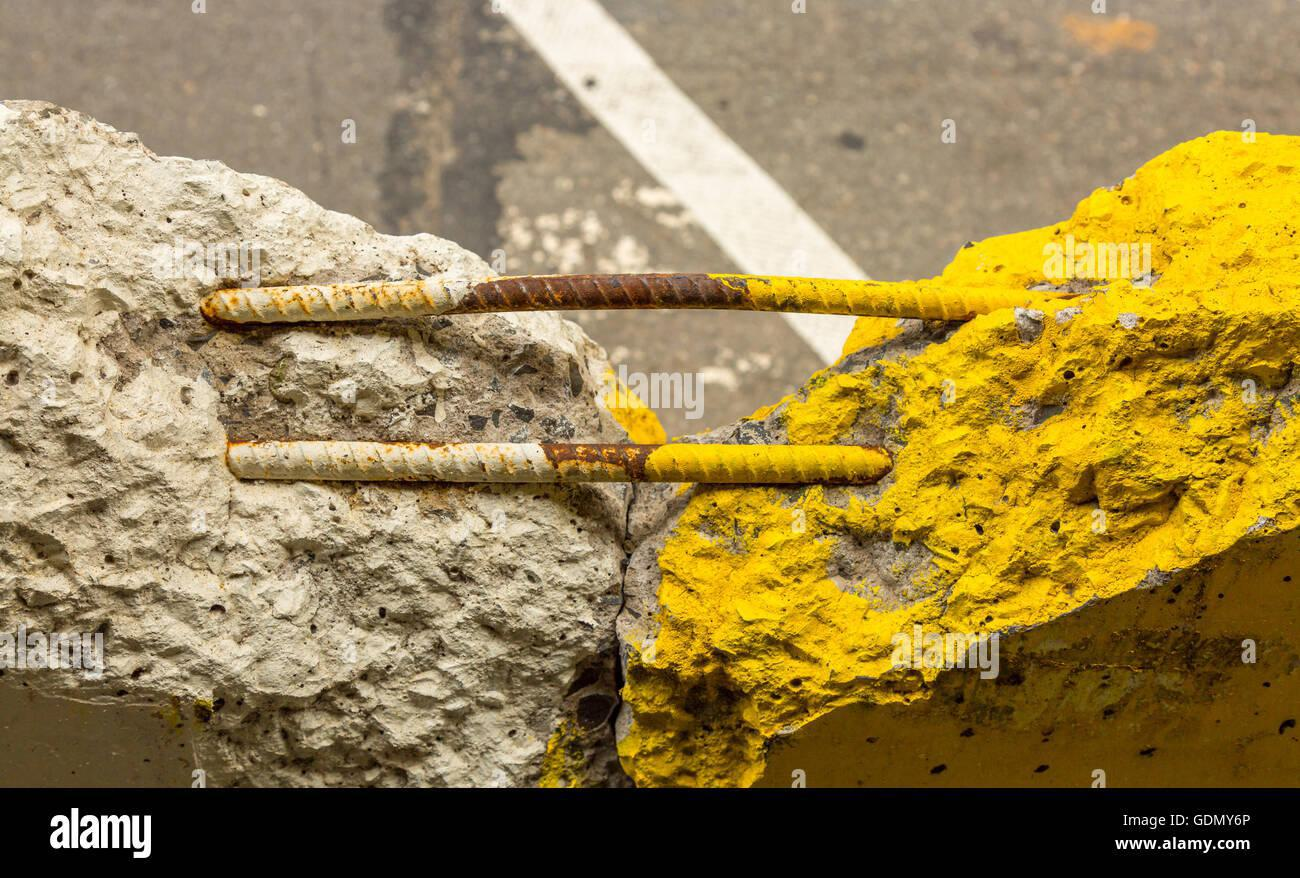Crack: (615, 483, 638, 787)
Exposed reinforcement: (197, 271, 1091, 324), (226, 439, 894, 485)
Spalling: (1, 99, 1300, 788)
